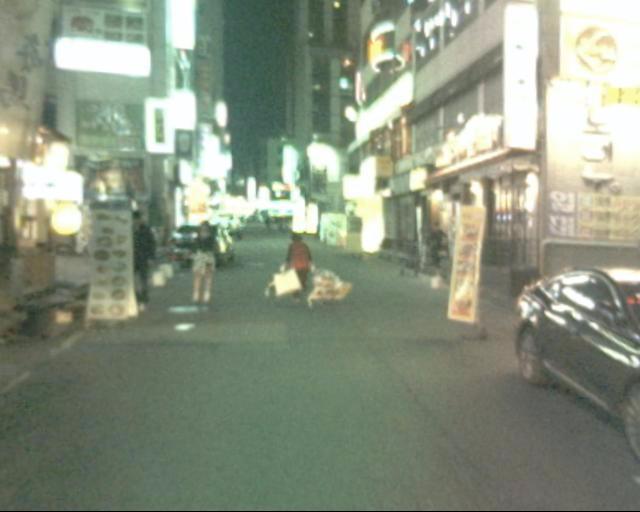person: (192, 216, 215, 312), (287, 232, 316, 303), (134, 217, 156, 306)
